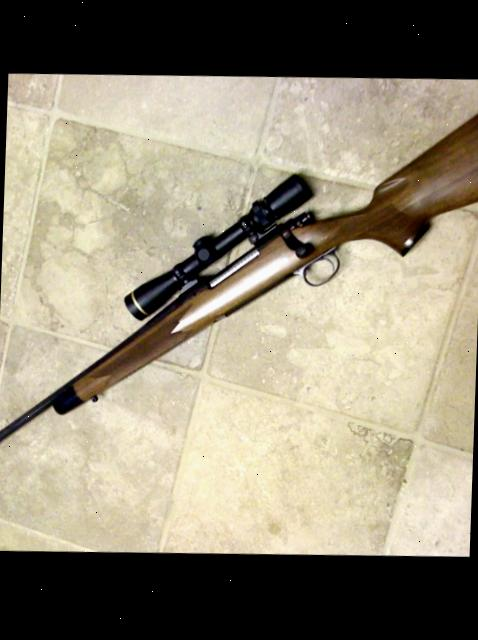rifle: (0, 65, 478, 523)
